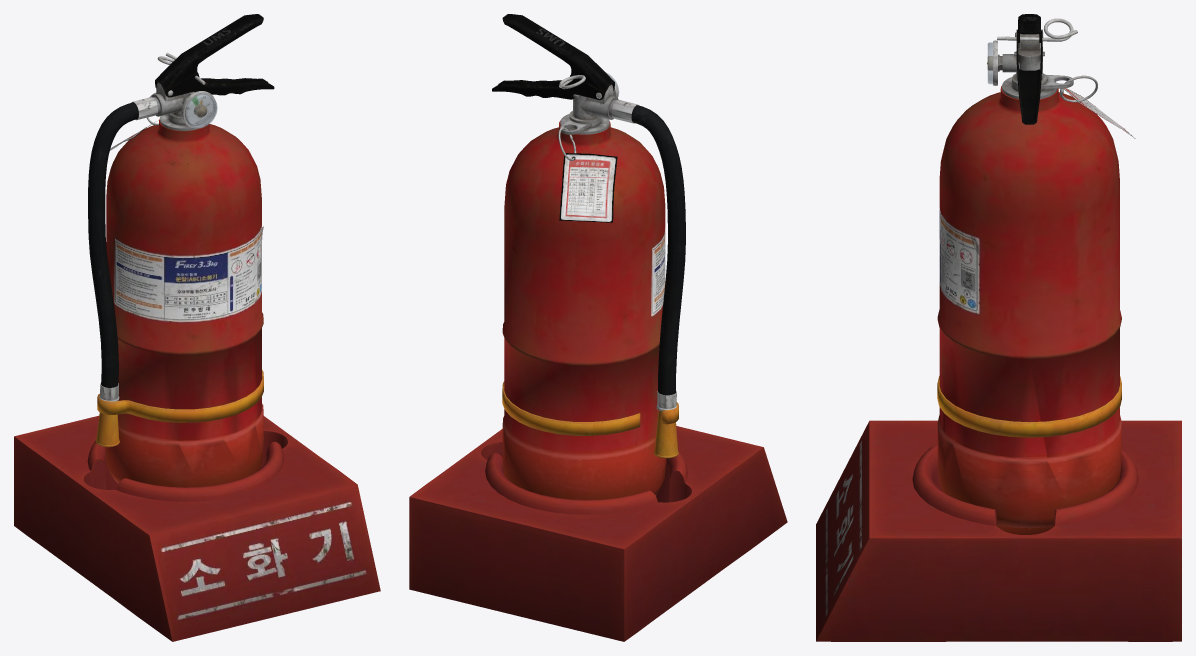
Rendered from korean_fire_extinguisher_01.glb.
3 renders of one model, left to right at view 1: azimuth 30°, elevation 25°; view 2: azimuth 150°, elevation 25°; view 3: azimuth 270°, elevation 25°, orthographic. The views are drawn at different scales.
Parts seen in each view (by area): view 1: korean_fire_extinguisher_01; view 2: korean_fire_extinguisher_01; view 3: korean_fire_extinguisher_01.
Part boxes in pixels (bbox=[...]): korean_fire_extinguisher_01: bbox=[14, 14, 380, 641]; korean_fire_extinguisher_01: bbox=[409, 14, 787, 641]; korean_fire_extinguisher_01: bbox=[816, 14, 1181, 641].
Size of the model in its own units: 0.2799 by 0.6593 by 0.3674.
Materials: 3 (3 with a texture image).
